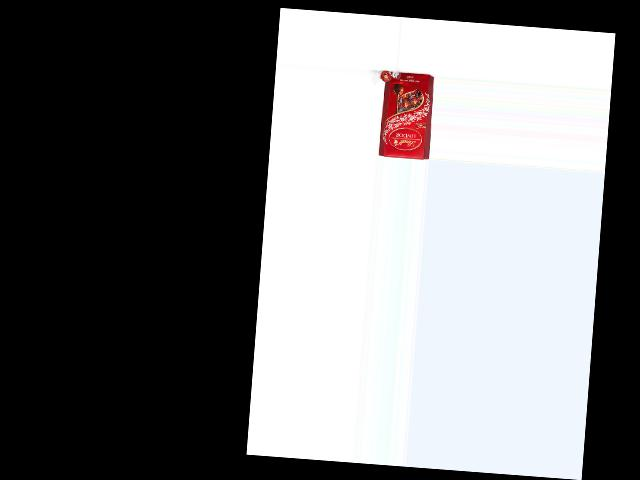chocolate: (373, 70, 434, 159)
